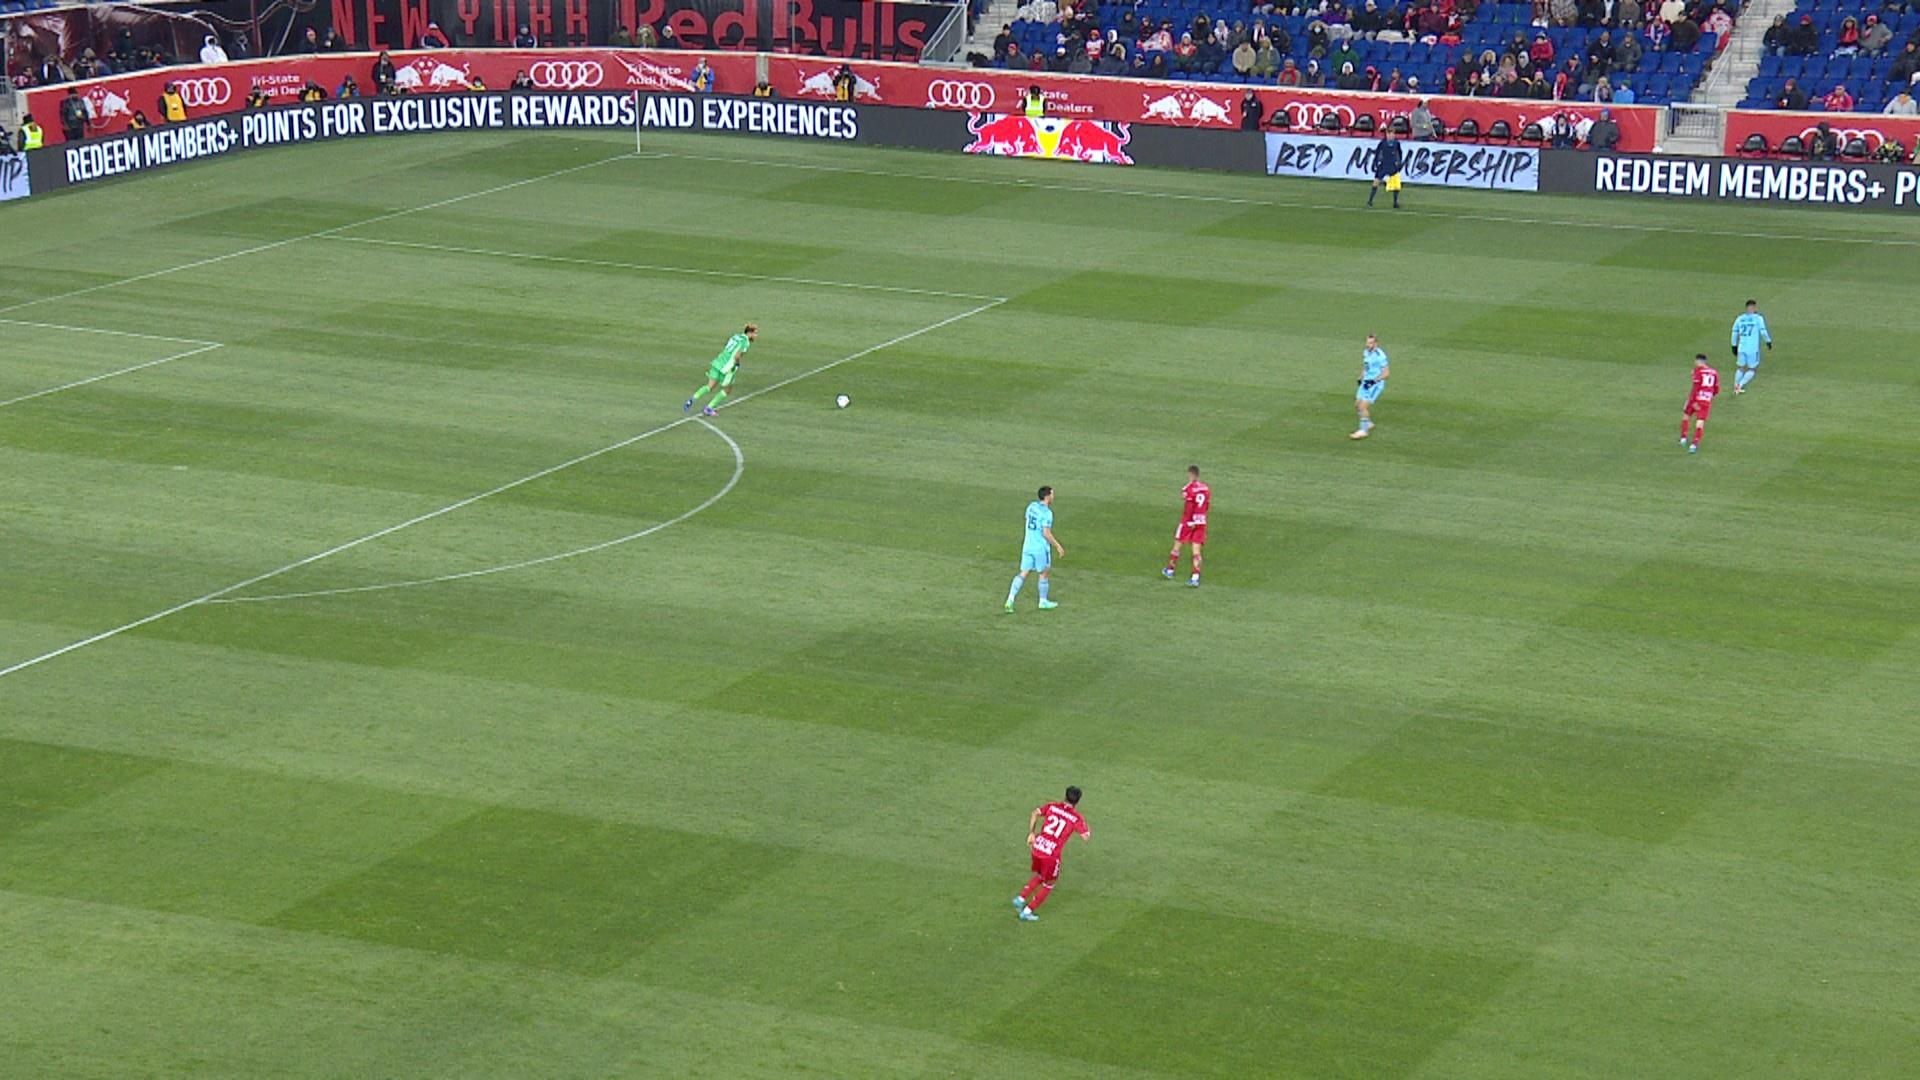football: (836, 393, 851, 409)
